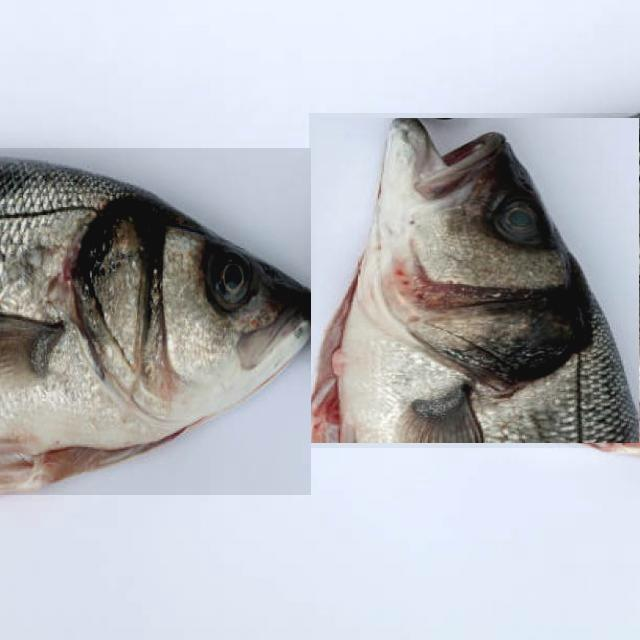Healthy Fish: (309, 113, 640, 448), (0, 148, 311, 495)
